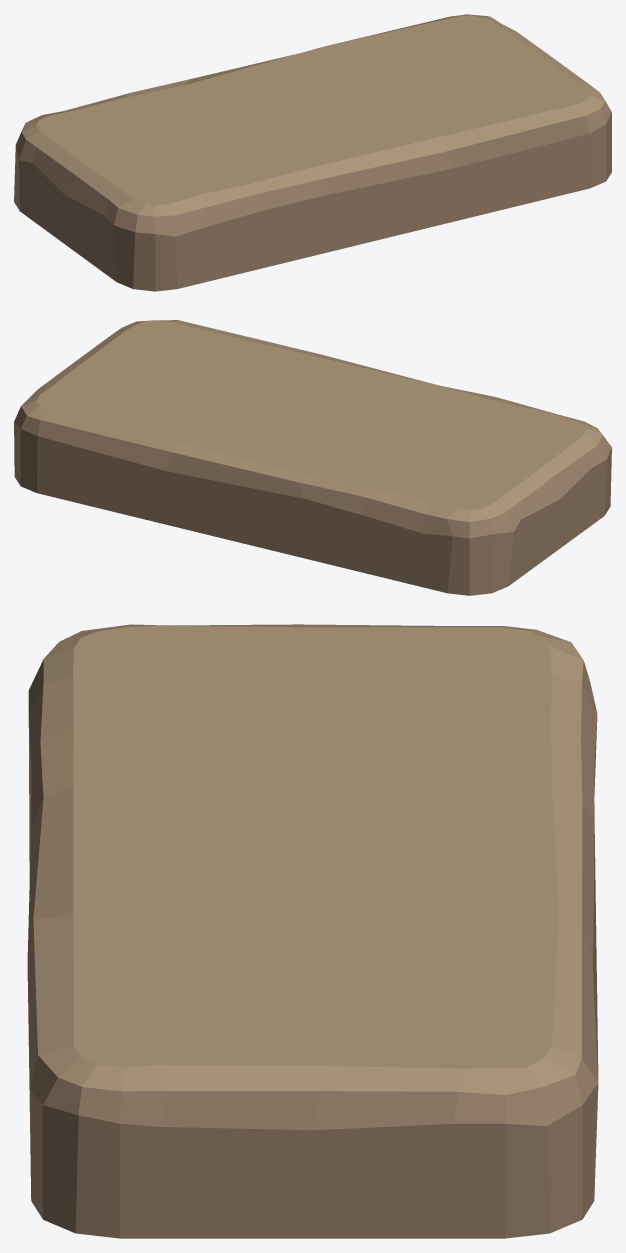
File: FloorPieces.fbx
3 views of the same model, one above another, from view 1: azimuth 30°, elevation 25°; view 2: azimuth 150°, elevation 25°; view 3: azimuth 270°, elevation 25° (orthographic). The views are drawn at different scales.
Parts seen in each view (by area): view 1: Cube.001; view 2: Cube.001; view 3: Cube.001.
Part boxes in pixels (<box>): Cube.001: <box>14,14,611,291</box>; Cube.001: <box>14,320,611,595</box>; Cube.001: <box>27,624,598,1238</box>.
Bounding box in the file's own units: 403 × 61.39 × 203.
